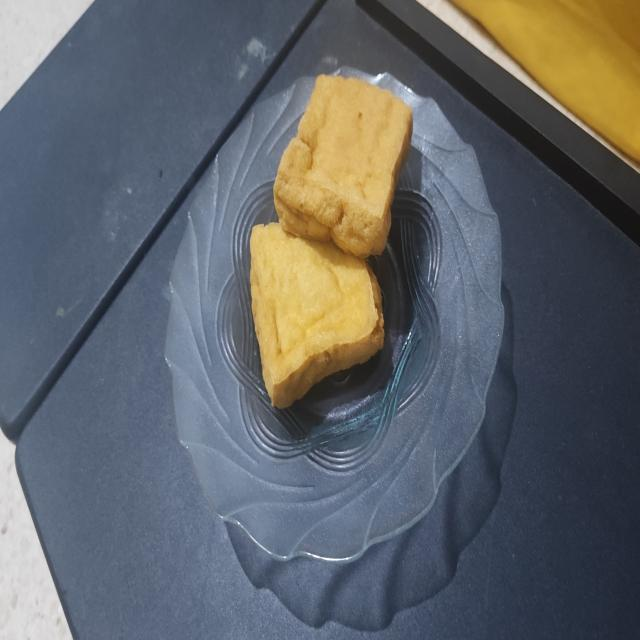tahu_goreng: (274, 74, 412, 258), (250, 223, 384, 408)
